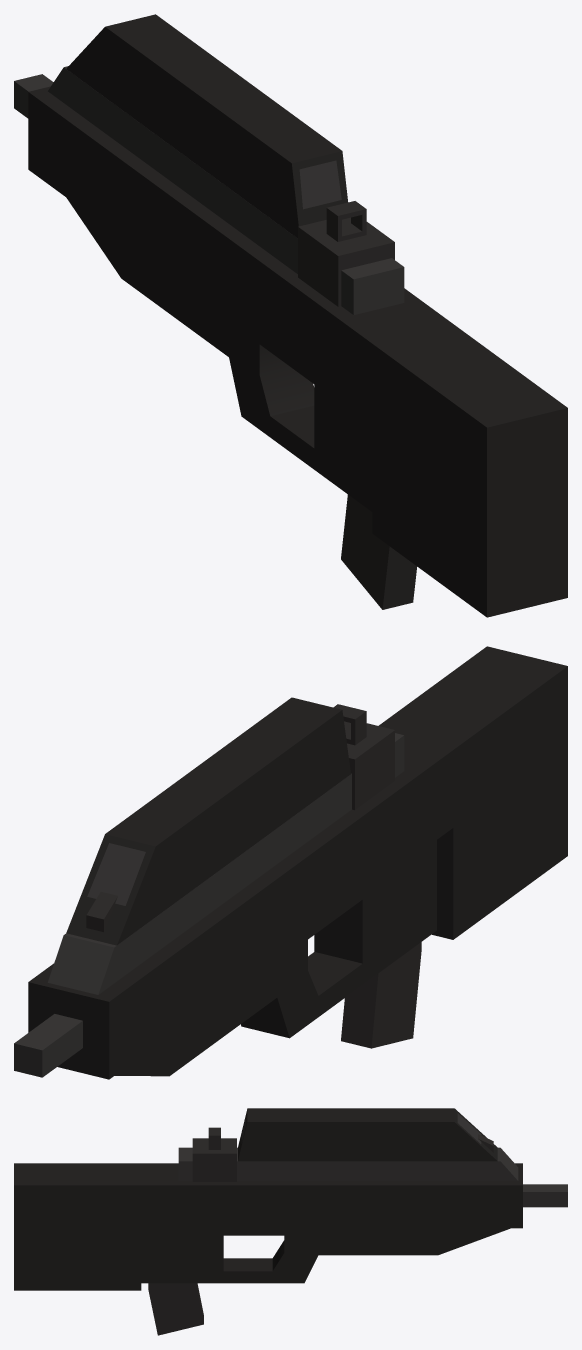
Rendered from AutoRifle2k.FBX.
3 renders of one model, top to bottom at view 1: azimuth 30°, elevation 25°; view 2: azimuth 150°, elevation 25°; view 3: azimuth 270°, elevation 25°, orthographic. The views are drawn at different scales.
Visible parts, largest first — view 1: AutoRifle2k, AutoRifle2kScope, AutoRifle2kSights, AutoRifle2kmag; view 2: AutoRifle2k, AutoRifle2kScope, AutoRifle2kmag, AutoRifle2kSights; view 3: AutoRifle2k, AutoRifle2kScope, AutoRifle2kmag, AutoRifle2kSights.
Part boxes in pixels (x1=…): AutoRifle2k: x1=14, y1=66, x2=567, y2=617; AutoRifle2kScope: x1=66, y1=14, x2=348, y2=238; AutoRifle2kSights: x1=298, y1=201, x2=394, y2=306; AutoRifle2kmag: x1=341, y1=494, x2=417, y2=609; AutoRifle2k: x1=14, y1=646, x2=567, y2=1079; AutoRifle2kScope: x1=66, y1=697, x2=350, y2=945; AutoRifle2kmag: x1=341, y1=942, x2=421, y2=1048; AutoRifle2kSights: x1=86, y1=704, x2=394, y2=932; AutoRifle2k: x1=14, y1=1147, x2=567, y2=1290; AutoRifle2kScope: x1=238, y1=1108, x2=497, y2=1161; AutoRifle2kmag: x1=148, y1=1283, x2=203, y2=1335; AutoRifle2kSights: x1=192, y1=1127, x2=493, y2=1181.
Size of the model in its own units: 15.33 by 164 by 70.61.
